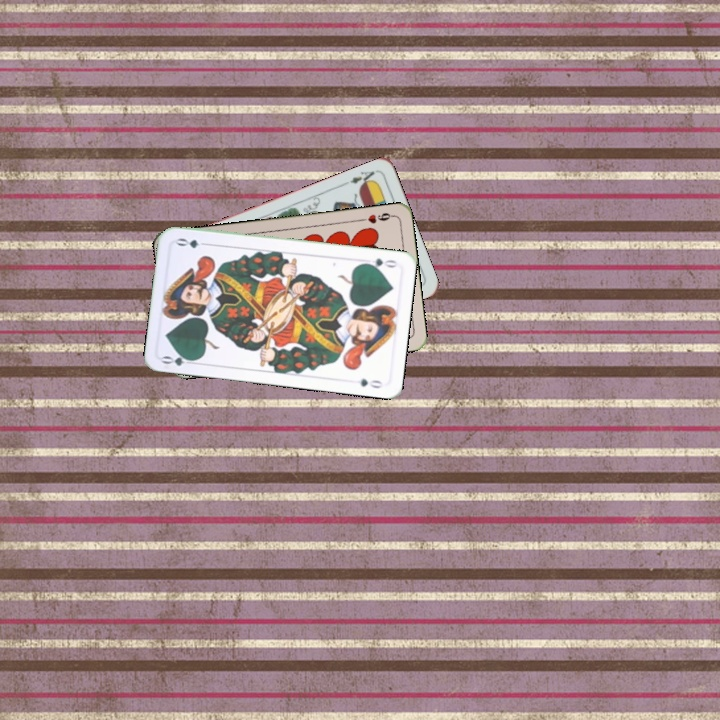EA: (340, 167, 379, 189)
GO: (158, 349, 199, 368), (359, 254, 400, 271)
H9: (355, 208, 396, 226)
